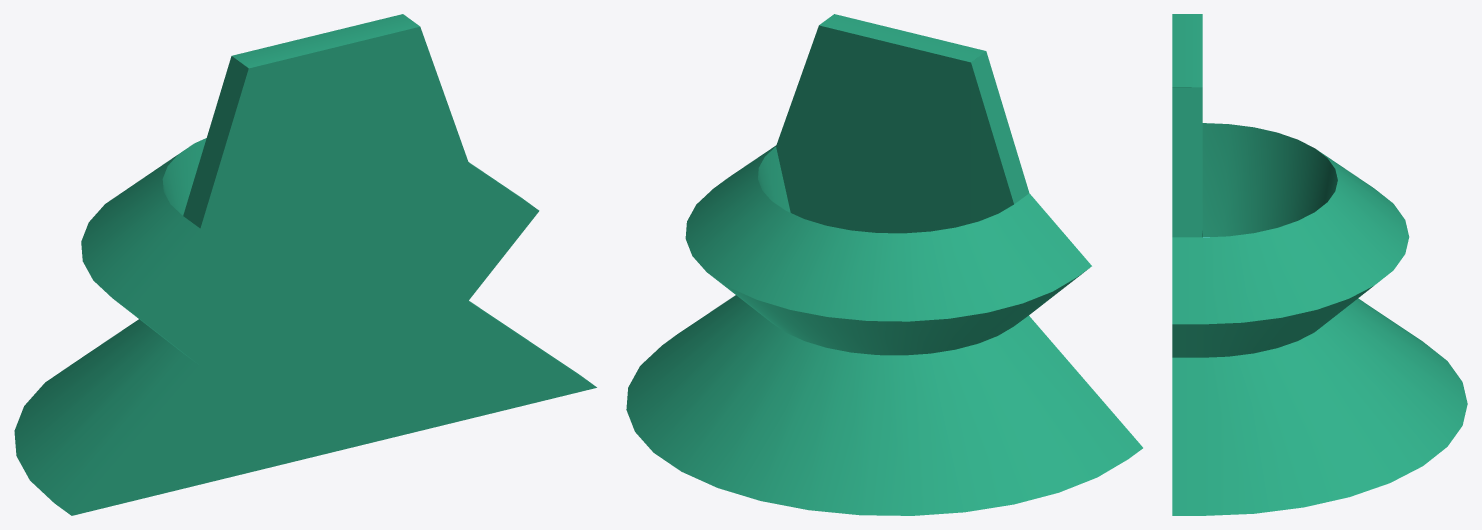
The model's file is Recipient Plant.6.fbx.
3 renders of one model, left to right at view 1: azimuth 30°, elevation 25°; view 2: azimuth 150°, elevation 25°; view 3: azimuth 270°, elevation 25°, orthographic. The views are drawn at different scales.
Parts seen in each view (by area): view 1: VPlanta; view 2: VPlanta; view 3: VPlanta.
Part boxes in pixels (<box>): VPlanta: <box>14,14,596,515</box>; VPlanta: <box>626,14,1142,515</box>; VPlanta: <box>1172,14,1467,515</box>.
Size of the model in its own units: 128 by 94.26 by 71.44.
